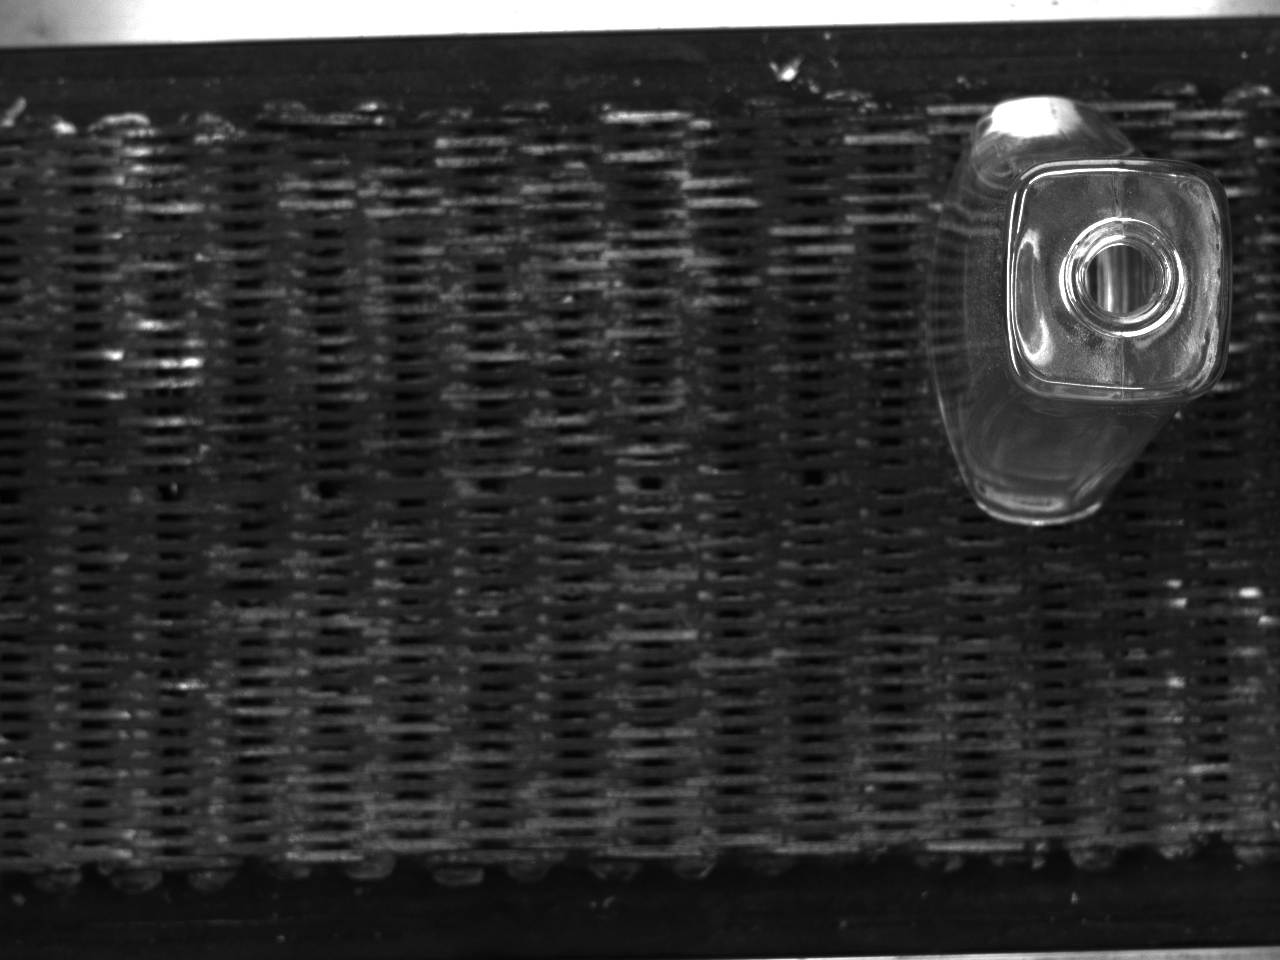bottleneck: (1062, 218, 1187, 339)
